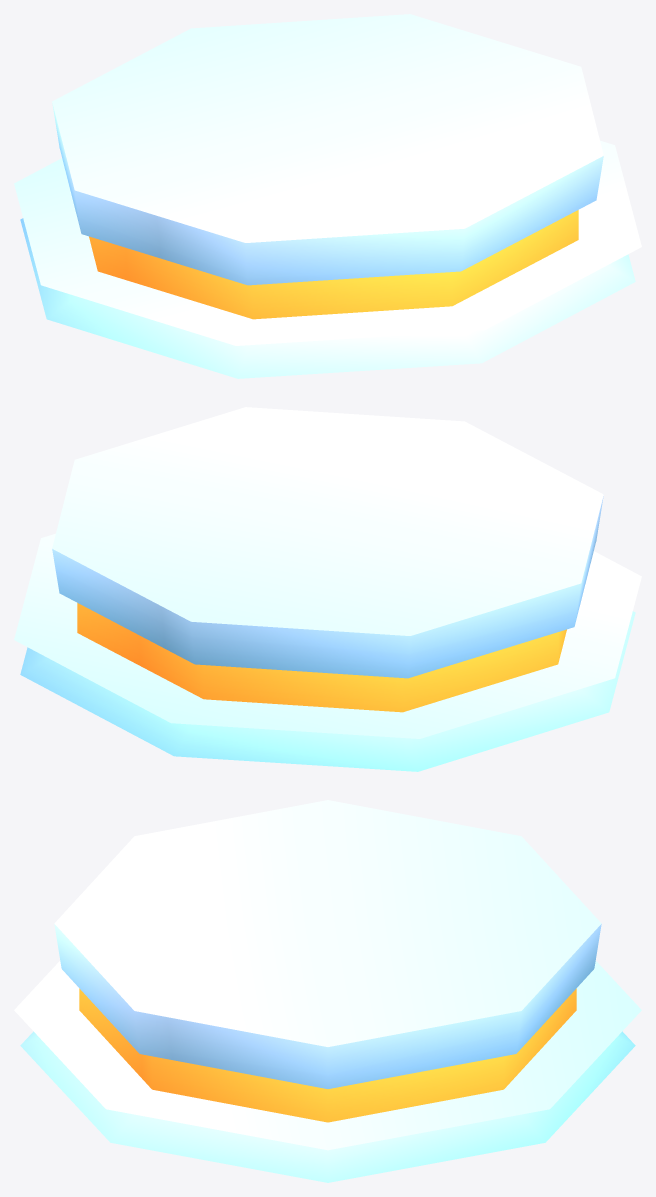
File: gold_and_steel_guard_041.glb
The picture shows the model from 3 angles, top to bottom: view 1: azimuth 30°, elevation 25°; view 2: azimuth 150°, elevation 25°; view 3: azimuth 270°, elevation 25°; orthographic projection.
Visible parts, largest first — view 1: gold_and_steel_guard_041; view 2: gold_and_steel_guard_041; view 3: gold_and_steel_guard_041.
Boxes of the visible parts, x1,y1,x2,y2 form: gold_and_steel_guard_041: (14,14,641,378); gold_and_steel_guard_041: (14,407,641,771); gold_and_steel_guard_041: (14,800,641,1182).
Bounding box in the file's own units: 4.9 × 0.9958 × 4.64.
Materials: 1 (1 with a texture image).
